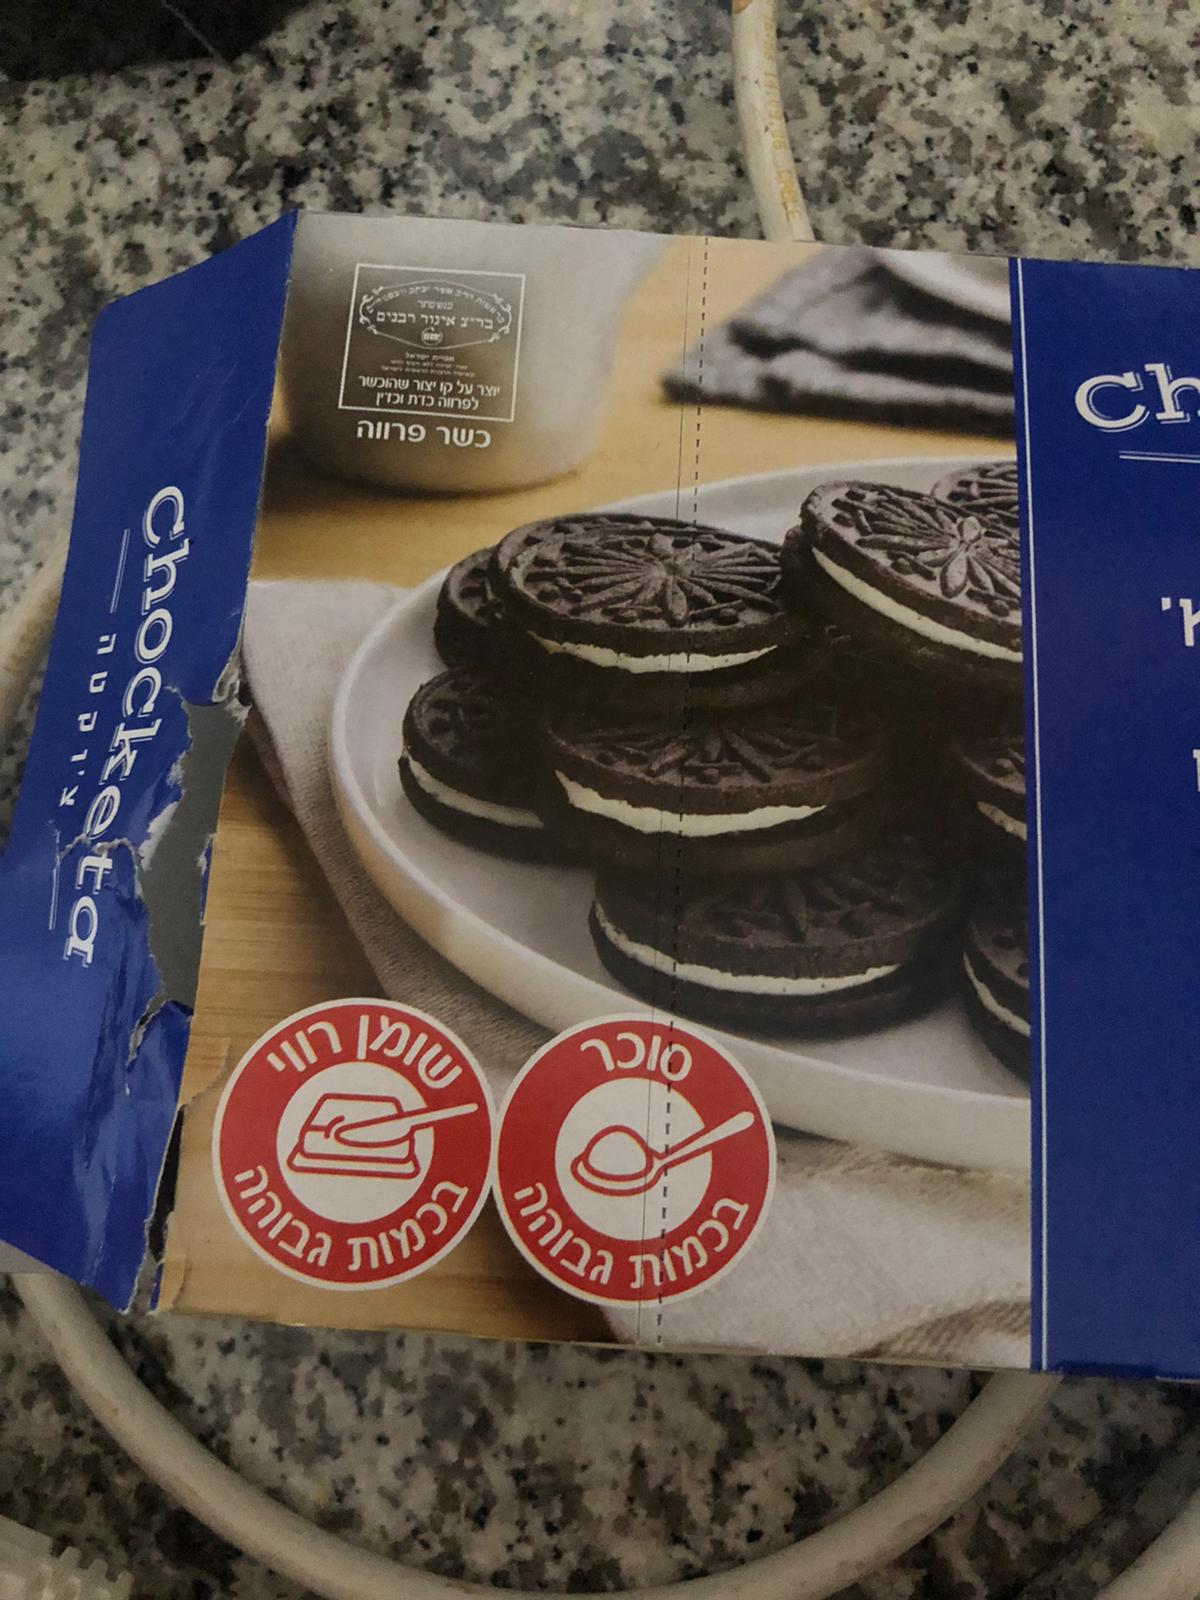fat: (214, 998, 495, 1298)
sugar: (494, 1013, 782, 1308)
